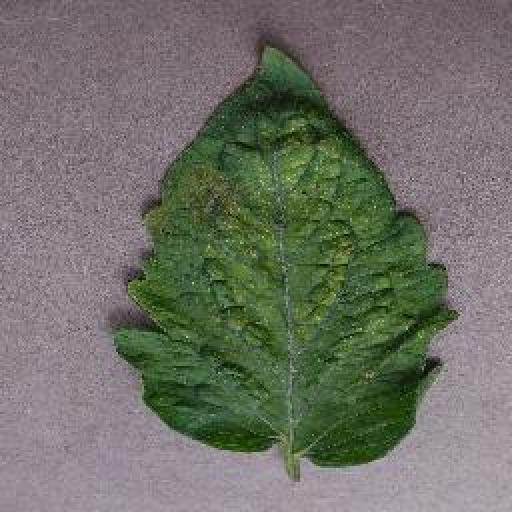Spider Mites: (110, 44, 458, 475)
